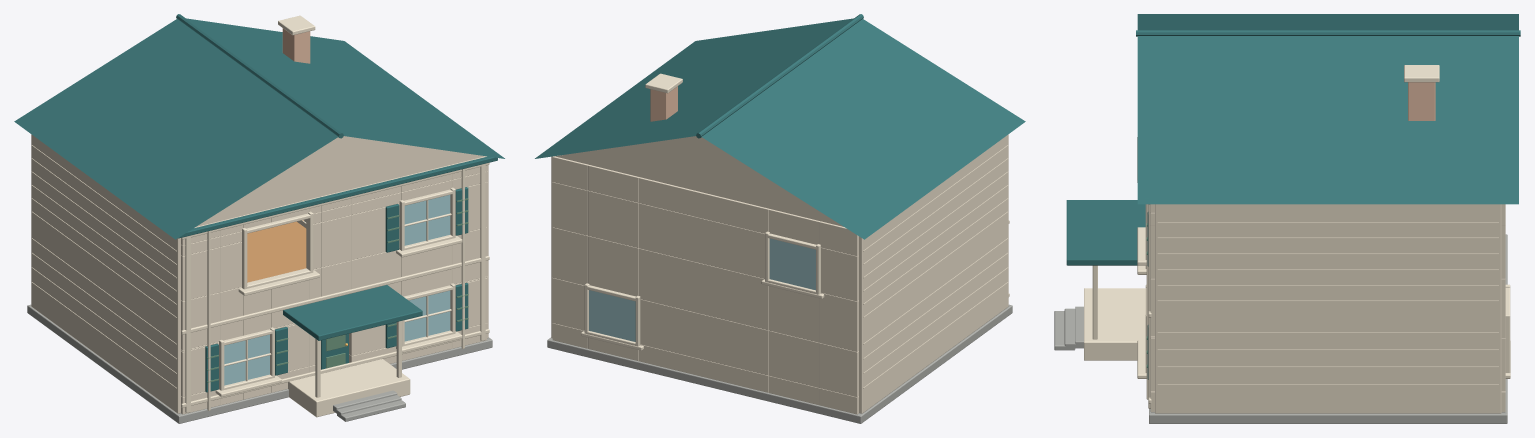
File: house_learning_home.glb
3 views of the same model, side by side, from view 1: azimuth 30°, elevation 25°; view 2: azimuth 150°, elevation 25°; view 3: azimuth 270°, elevation 25° (orthographic). The views are drawn at different scales.
Visible parts, largest first — view 1: house_learning_home_Mesh; view 2: house_learning_home_Mesh; view 3: house_learning_home_Mesh.
Part boxes in pixels (box(x1,y1,x2,y2)): house_learning_home_Mesh: box(14, 14, 504, 423); house_learning_home_Mesh: box(535, 14, 1025, 423); house_learning_home_Mesh: box(1054, 14, 1520, 423).
Bounding box in the file's own units: 13 × 9.76 × 13.45.
